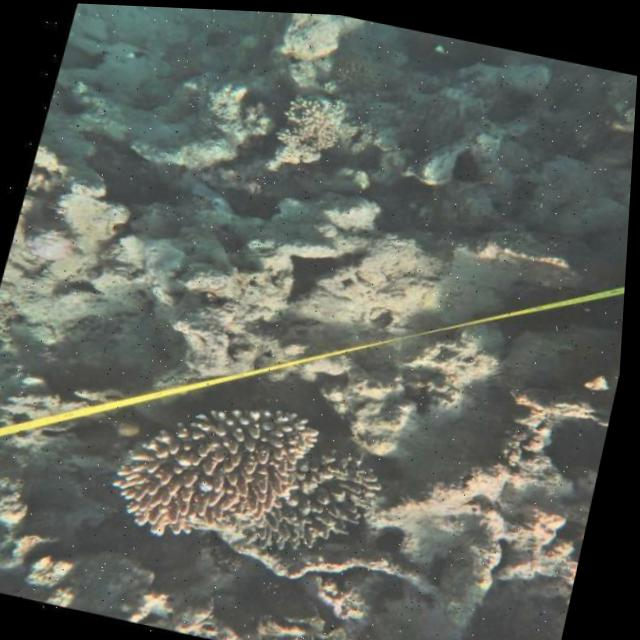Healthy Coral: (111, 370, 387, 570)
